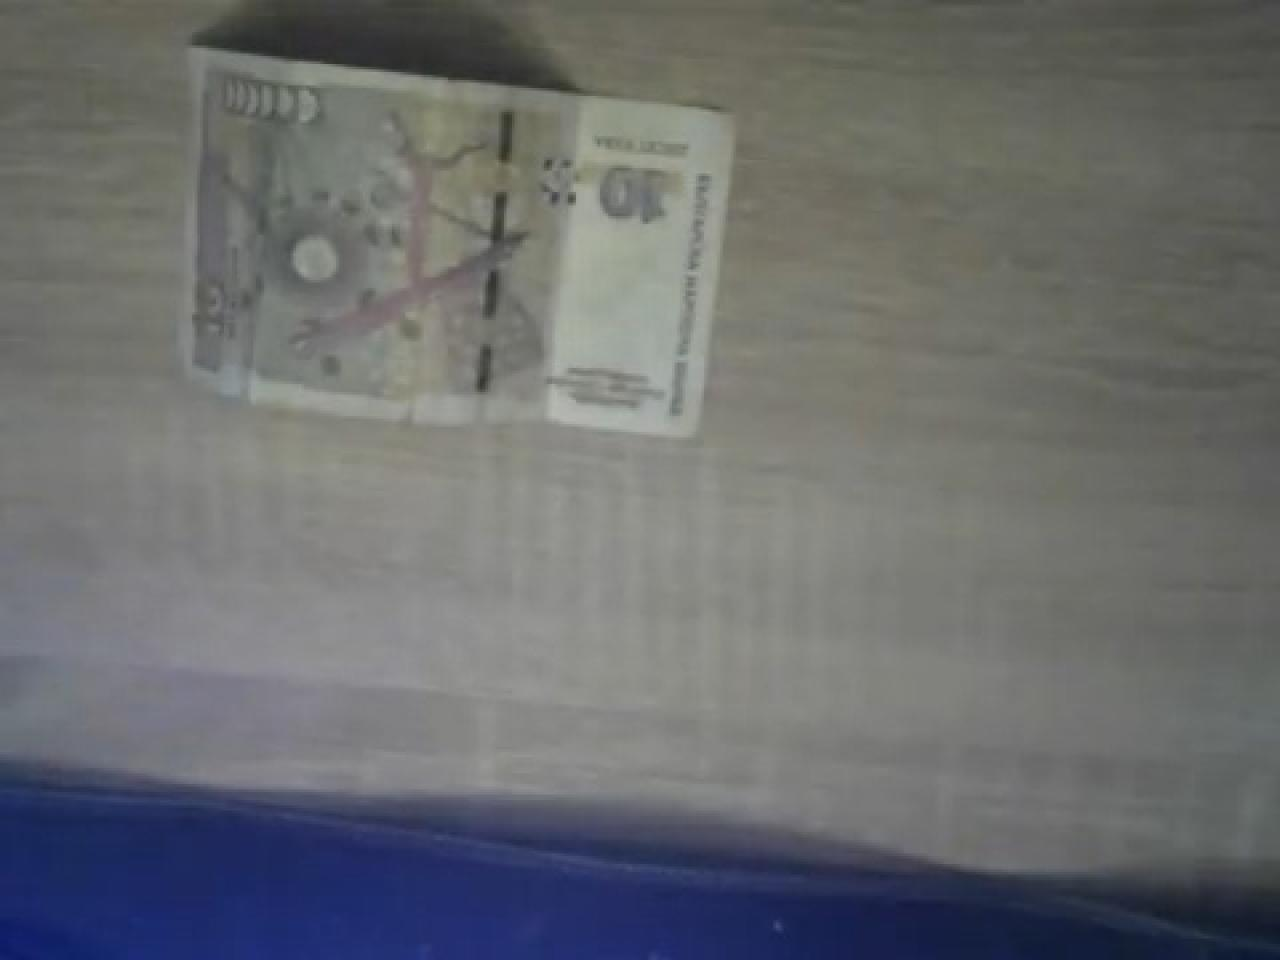10leva: (184, 37, 739, 438)
